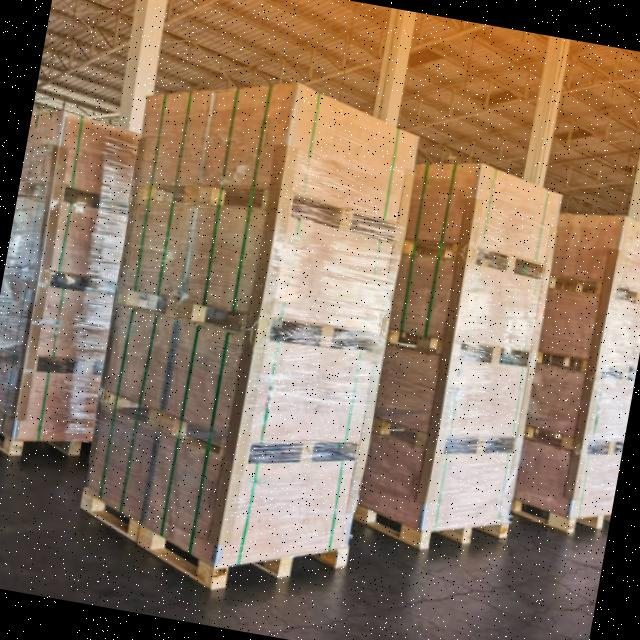Wooden-Pallets: (76, 484, 352, 590)
